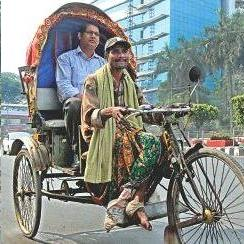Rickshaw: (8, 1, 242, 216)
